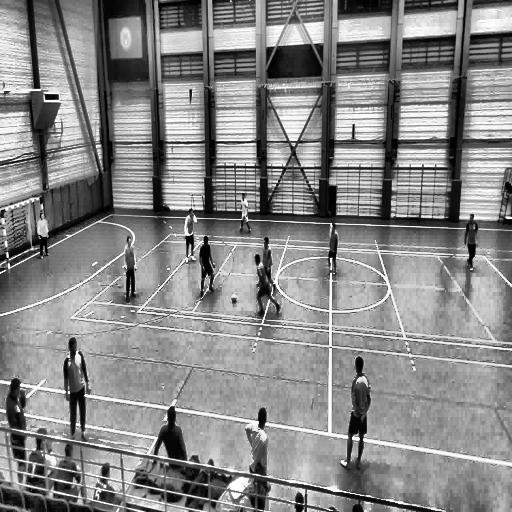ball: (231, 293, 237, 303)
player: (338, 356, 369, 471), (64, 342, 89, 442), (245, 408, 269, 511), (6, 380, 27, 487), (255, 252, 280, 316), (199, 234, 216, 298), (123, 234, 137, 303), (465, 214, 478, 272), (184, 208, 197, 262), (38, 208, 50, 259), (328, 222, 338, 276), (239, 192, 251, 232)
